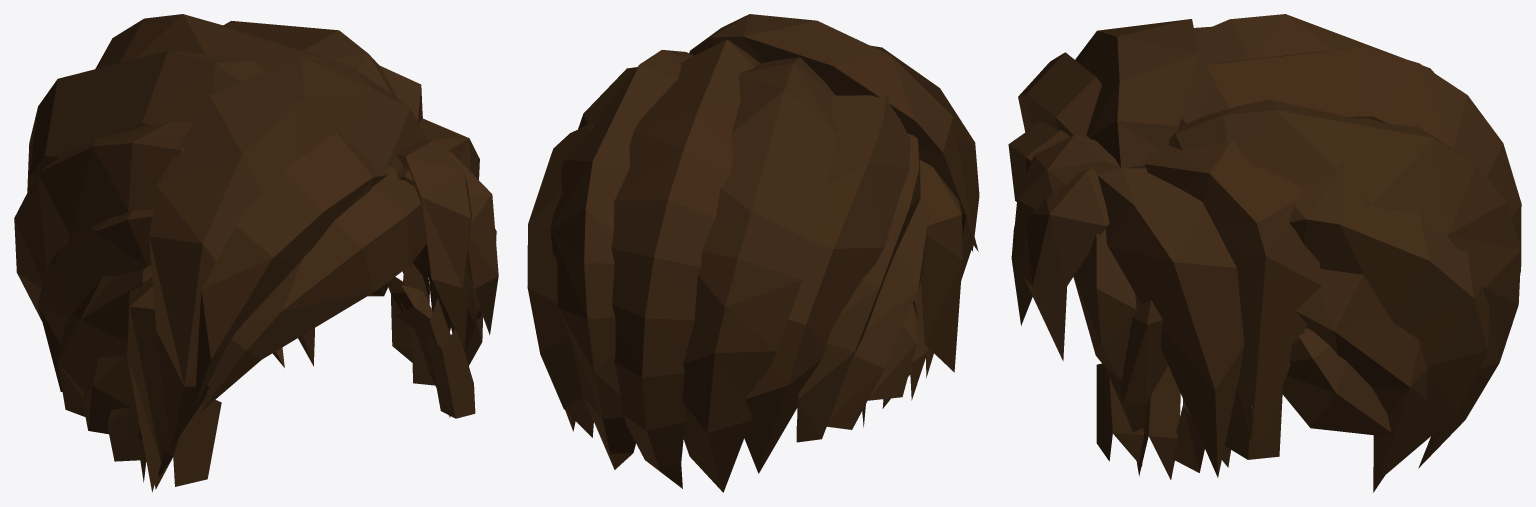
Rendered from hair-swept.high.aa301d14.glb.
3 renders of one model, left to right at view 1: azimuth 30°, elevation 25°; view 2: azimuth 150°, elevation 25°; view 3: azimuth 270°, elevation 25°, orthographic. The views are drawn at different scales.
Parts seen in each view (by area): view 1: hair-swept; view 2: hair-swept; view 3: hair-swept.
Boxes of the visible parts, bbox=[...] form: hair-swept: bbox=[14, 14, 498, 492]; hair-swept: bbox=[527, 14, 979, 492]; hair-swept: bbox=[1008, 14, 1521, 492].
Bounding box in the file's own units: 0.2151 × 0.2288 × 0.2606.
